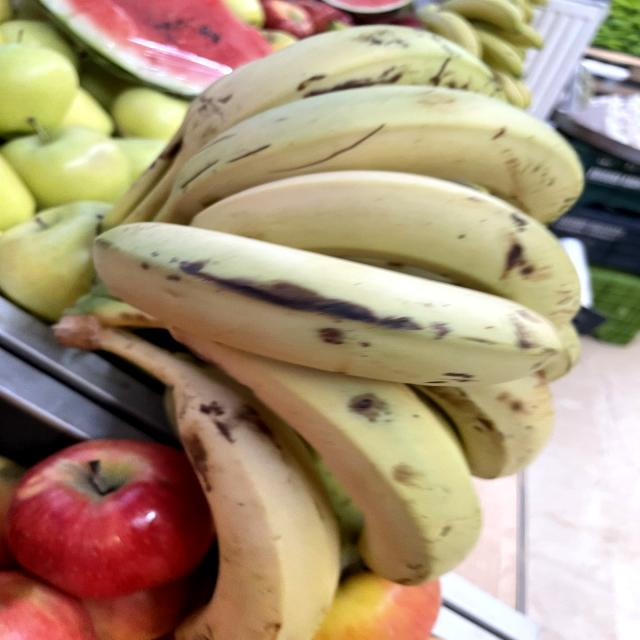banana: (85, 203, 571, 390)
